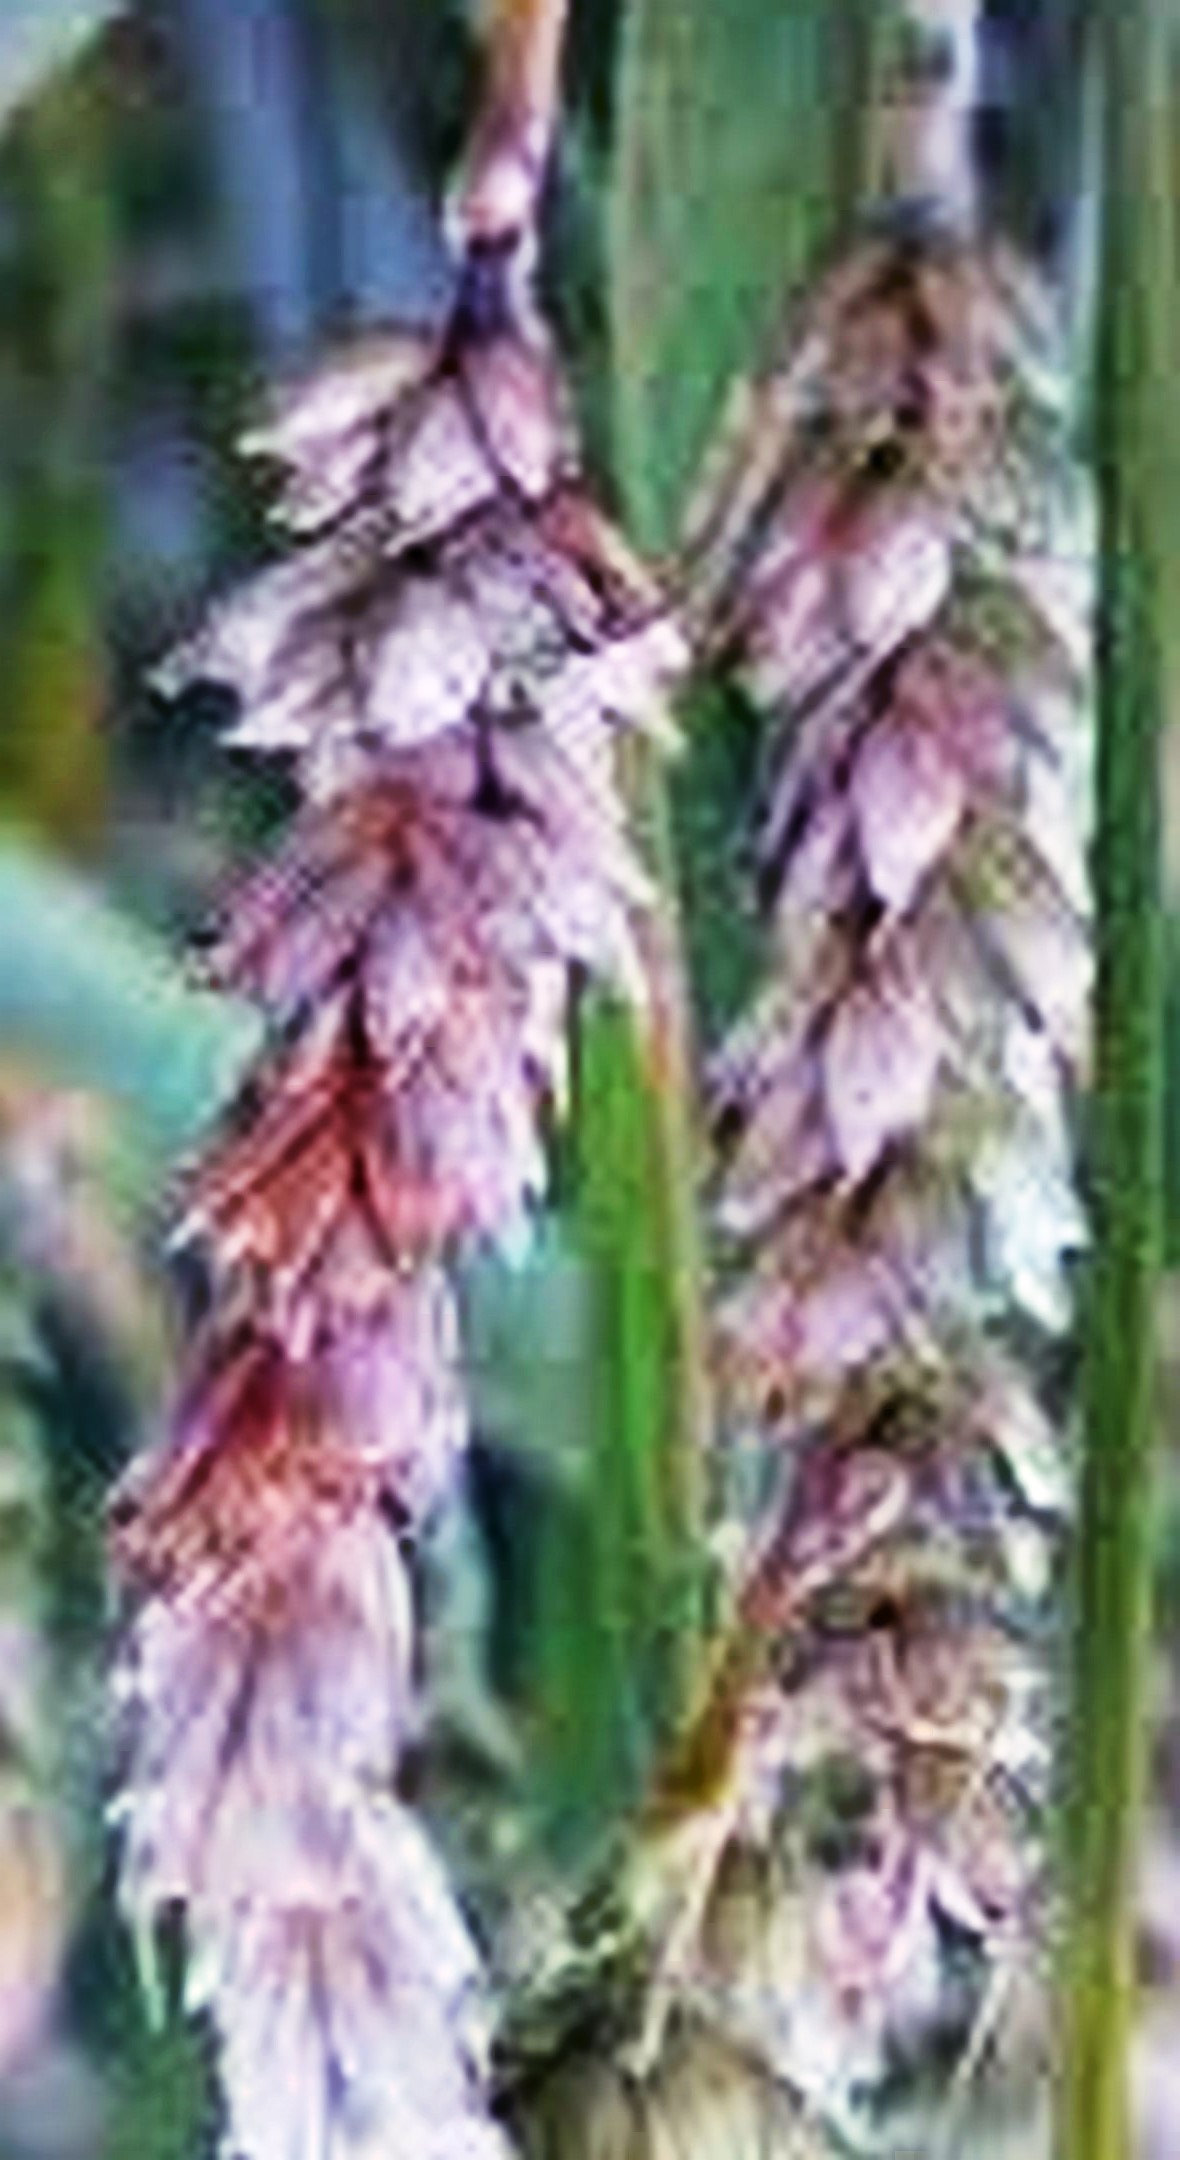Wheat scab: (52, 224, 650, 2122)
